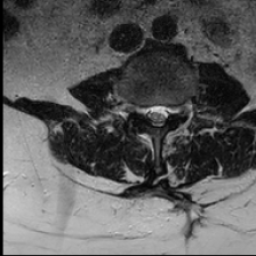CCS_normal: (153, 95, 161, 136)
LFS_stenosis: (170, 95, 182, 124)
LLS_normal: (161, 95, 170, 130)
RFS_stenosis: (135, 95, 143, 126)
RLS_normal: (143, 97, 153, 129)
